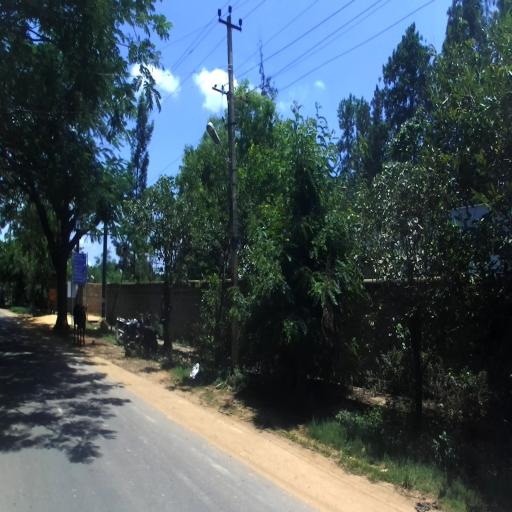street_light_0: (206, 122, 236, 190)
